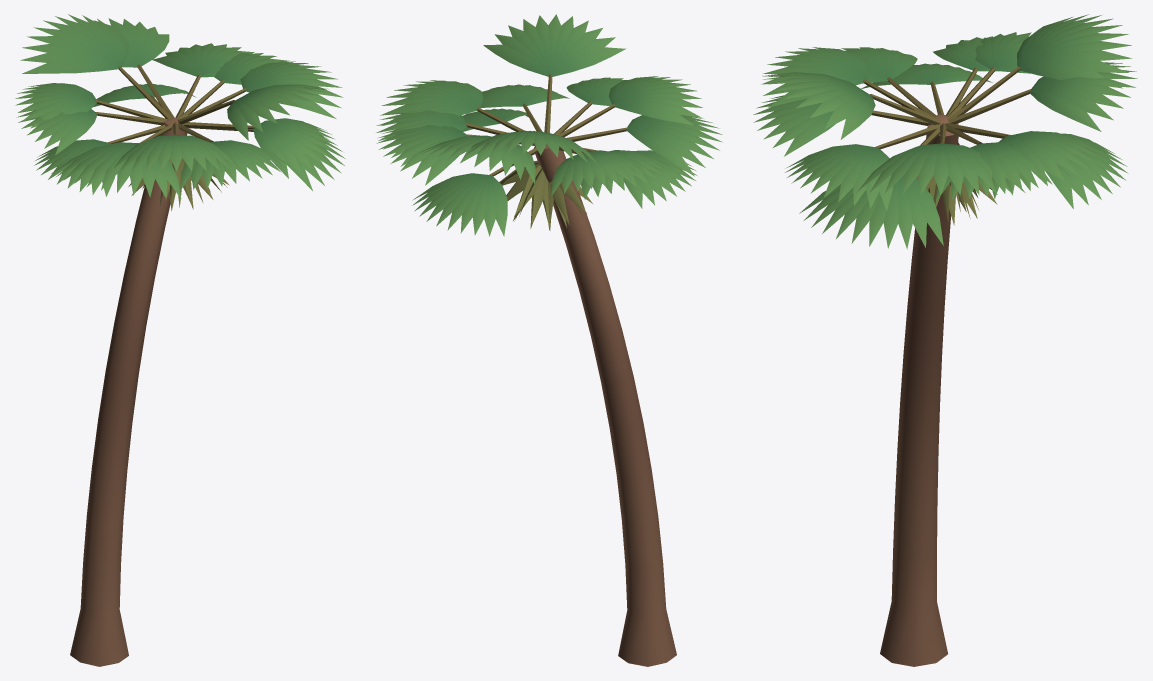
The model's file is palm_1.glb.
3 views of the same model, side by side, from view 1: azimuth 30°, elevation 25°; view 2: azimuth 150°, elevation 25°; view 3: azimuth 270°, elevation 25° (orthographic). The views are drawn at different scales.
Parts seen in each view (by area): view 1: Tronco1; view 2: Tronco1; view 3: Tronco1.
Part boxes in pixels (box(x1,y1,x2,y2)): Tronco1: box(15, 14, 345, 666); Tronco1: box(376, 14, 722, 666); Tronco1: box(753, 14, 1137, 666).
Bounding box in the file's own units: 5.35 × 9.9 × 5.23.
